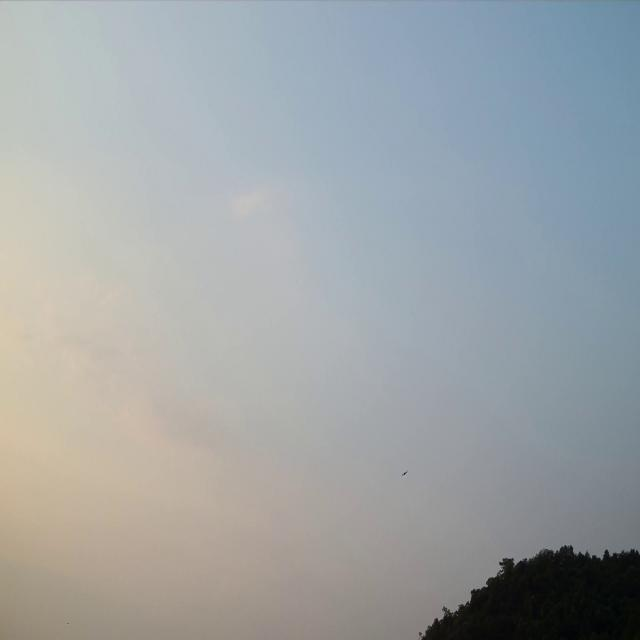UAV: (402, 469, 409, 476)
